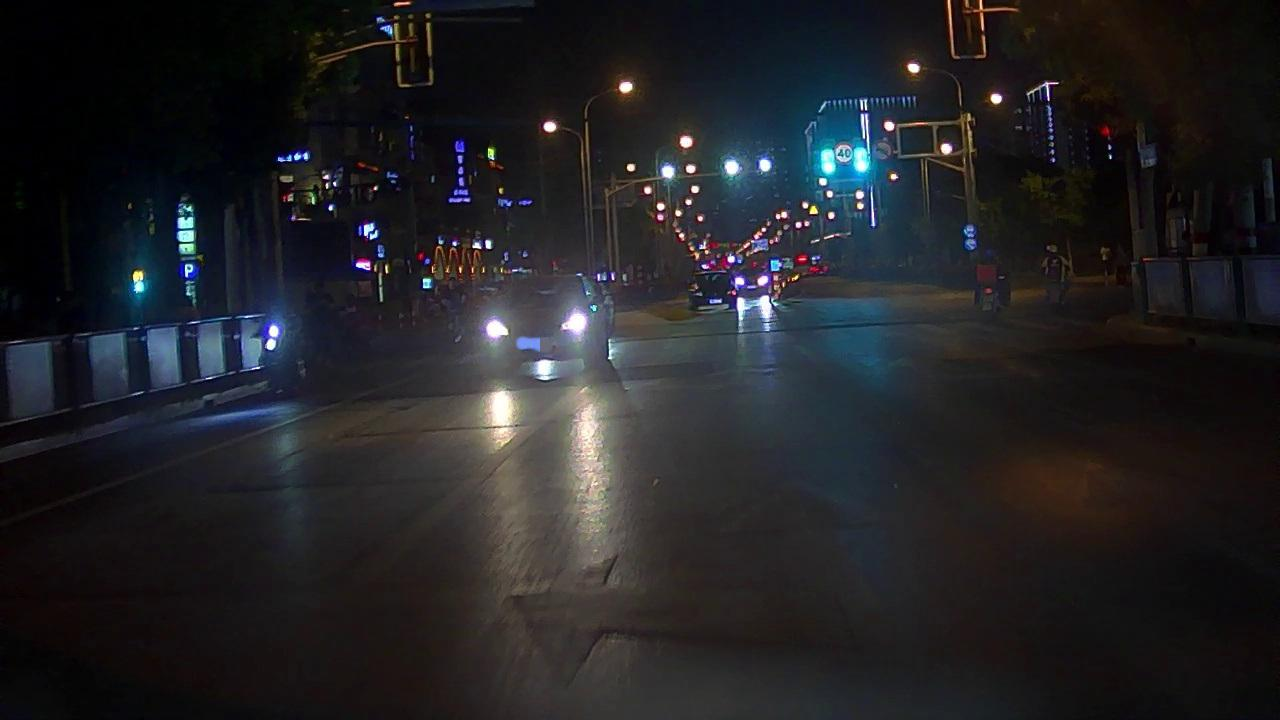traffic_light: (849, 138, 871, 178), (817, 141, 837, 180), (720, 155, 742, 180), (658, 163, 678, 184)
